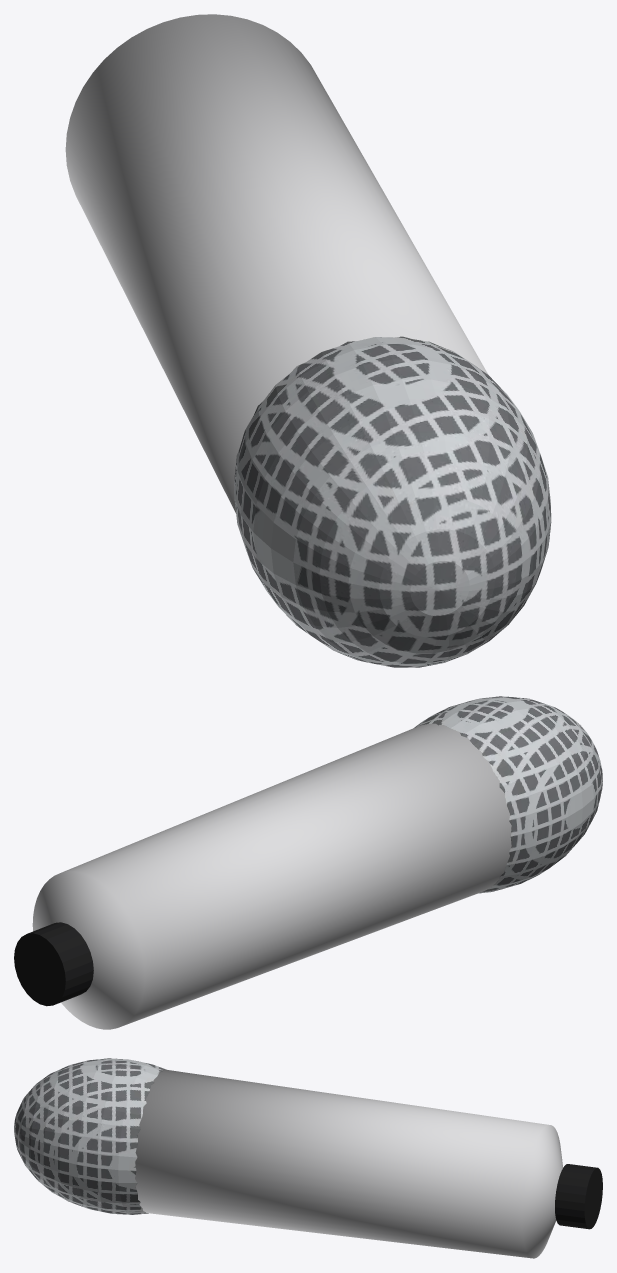
File: studio-condenser.glb
The picture shows the model from 3 angles, top to bottom: view 1: azimuth 30°, elevation 25°; view 2: azimuth 150°, elevation 25°; view 3: azimuth 270°, elevation 25°; orthographic projection. The views are drawn at different scales.
Parts seen in each view (by area): view 1: chrome, mesh_grille; view 2: chrome, mesh_grille, mic_black; view 3: chrome, mesh_grille, mic_black.
Part boxes in pixels (box(x1,y1,x2,y2)): chrome: box(65, 14, 488, 513); mesh_grille: box(234, 336, 551, 667); chrome: box(32, 723, 511, 1029); mesh_grille: box(414, 696, 602, 893); mic_black: box(14, 922, 93, 1006); chrome: box(135, 1069, 563, 1258); mesh_grille: box(14, 1058, 165, 1214); mic_black: box(555, 1164, 602, 1229).
Bounding box in the file's own units: 0.1063 × 0.06 × 0.2271.
Materials: 3 (1 with a texture image).
